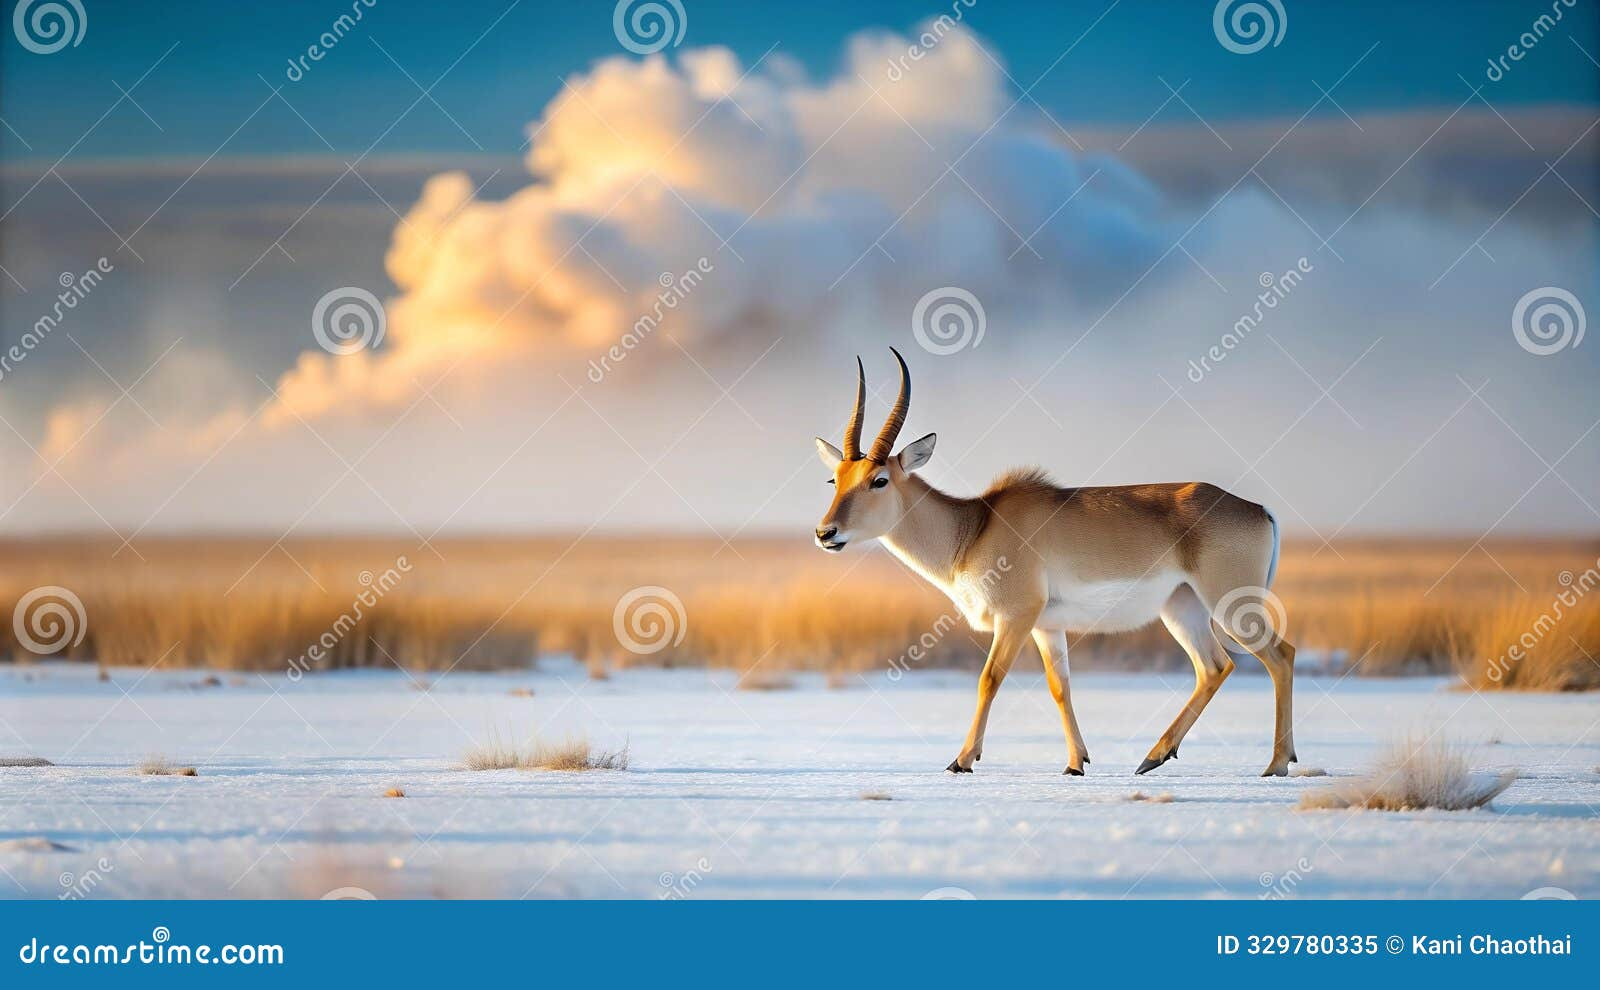saiga: (799, 335, 1322, 793)
